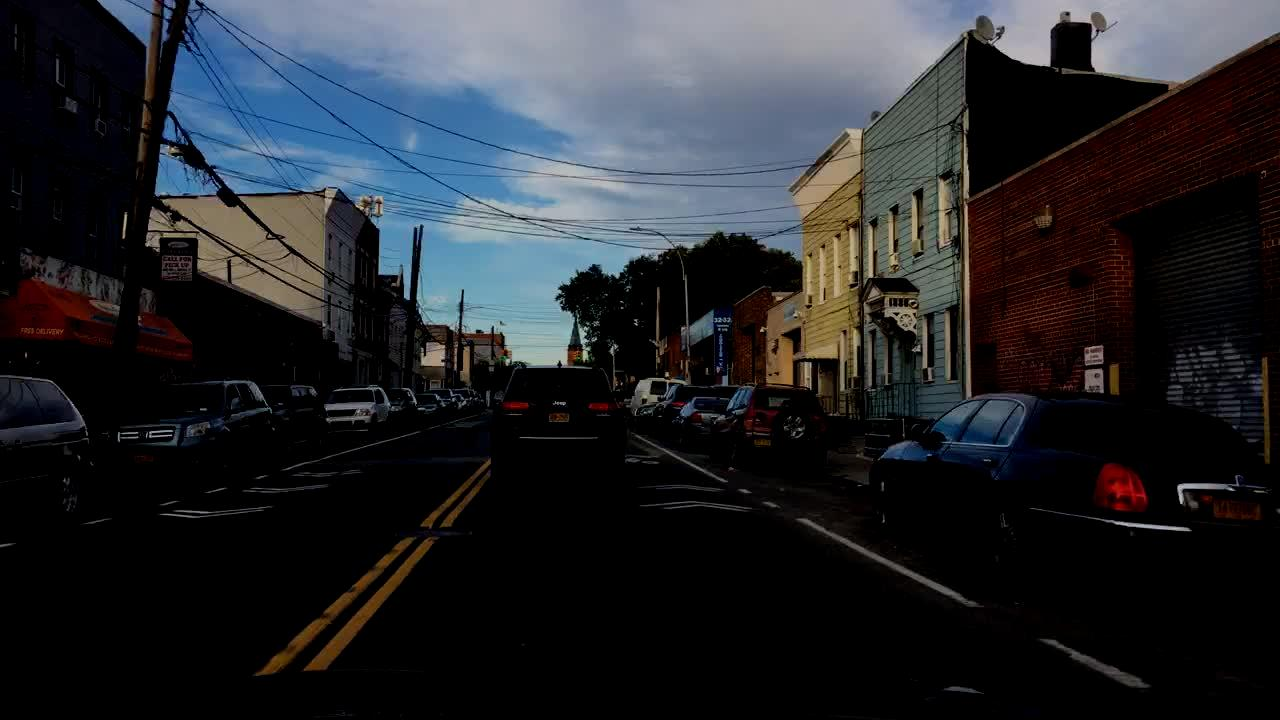Honda: (134, 427, 152, 446)
jeep: (544, 395, 582, 411)
lincoln: (1230, 469, 1250, 491)
